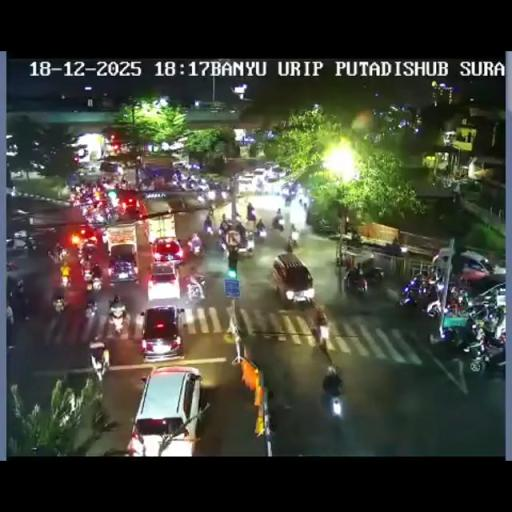Car: (124, 365, 202, 454), (138, 304, 186, 360), (271, 253, 314, 305), (442, 250, 498, 286), (146, 262, 182, 303), (108, 243, 138, 283), (151, 236, 185, 266), (88, 340, 110, 380), (119, 194, 144, 218), (75, 161, 101, 176), (99, 161, 123, 177), (237, 173, 254, 191), (263, 162, 276, 171)
Motorcycle: (204, 206, 269, 253), (463, 330, 504, 374), (398, 272, 438, 310), (266, 382, 290, 424), (305, 304, 328, 346), (12, 282, 30, 320), (446, 286, 470, 314), (344, 268, 367, 297), (320, 388, 342, 418), (184, 274, 206, 302), (377, 240, 408, 258), (109, 306, 126, 336), (84, 268, 102, 293), (51, 288, 68, 313), (315, 217, 336, 234), (88, 208, 106, 227), (6, 305, 14, 346), (344, 228, 362, 246), (188, 238, 204, 258), (81, 240, 97, 260), (47, 248, 65, 265), (25, 238, 42, 256), (242, 231, 256, 252), (103, 204, 119, 222), (59, 268, 72, 290), (287, 230, 301, 250), (85, 299, 98, 320), (254, 221, 268, 239), (185, 176, 201, 191), (216, 230, 227, 251), (167, 174, 182, 189), (271, 215, 284, 232), (219, 216, 230, 233), (139, 178, 153, 190), (72, 194, 84, 208), (246, 203, 256, 219), (254, 180, 265, 194), (204, 221, 214, 236), (206, 187, 216, 202), (101, 229, 110, 245), (283, 193, 293, 206), (196, 191, 206, 203), (6, 261, 18, 271), (220, 187, 228, 200), (208, 202, 214, 217), (234, 212, 242, 223), (302, 199, 308, 213), (298, 198, 304, 208)
